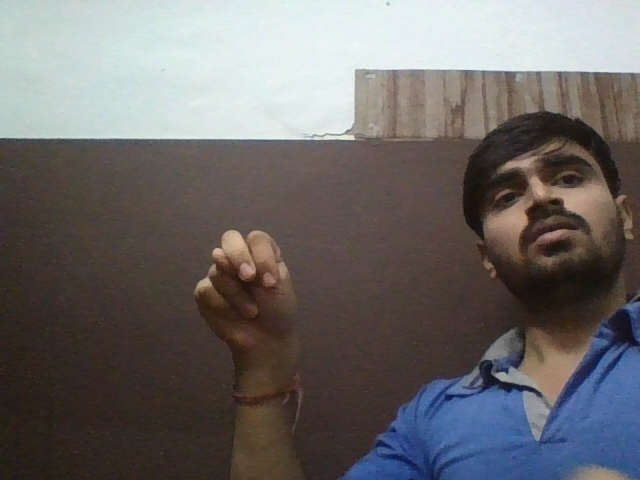M: (184, 224, 320, 364)
